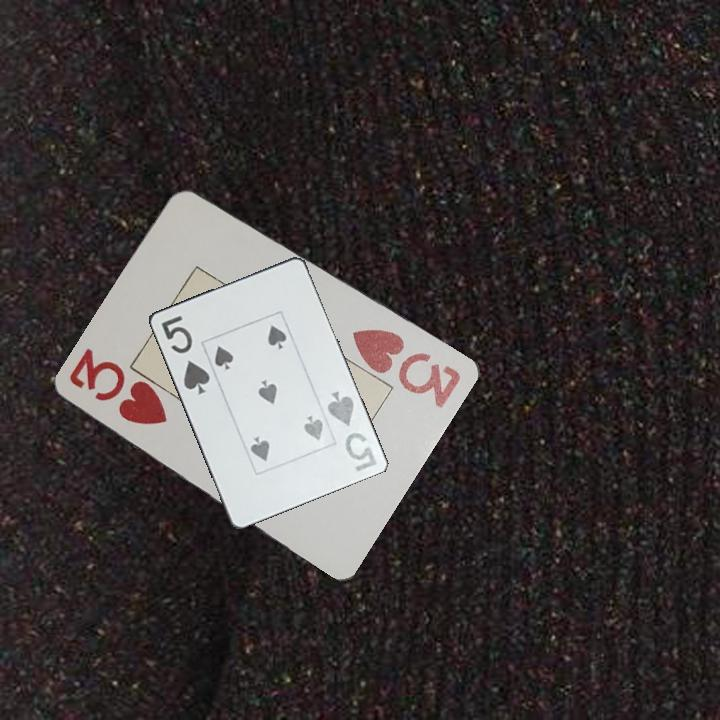3h: (348, 325, 465, 412), (66, 347, 171, 428)
5s: (323, 387, 379, 474), (157, 311, 212, 397)
